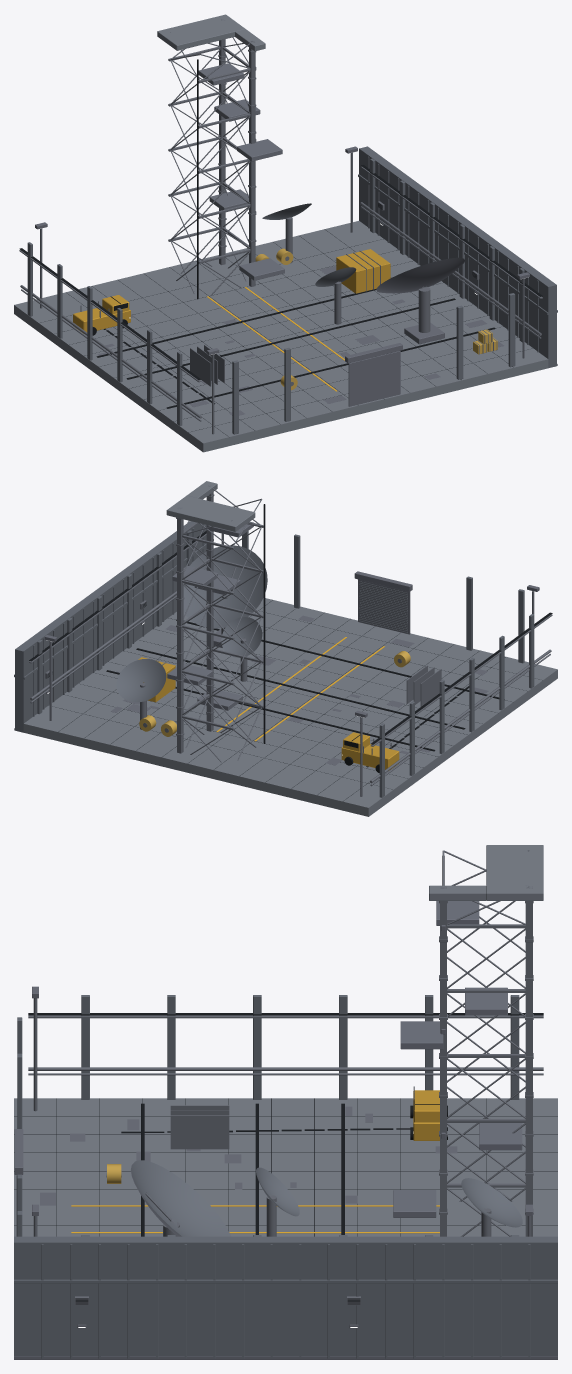
3 renders of one model, top to bottom at view 1: azimuth 30°, elevation 25°; view 2: azimuth 150°, elevation 25°; view 3: azimuth 270°, elevation 25°, orthographic. The views are drawn at different scales.
Visible parts, largest first — view 1: p0_m1; view 2: p0_m1; view 3: p0_m1.
Part boxes in pixels (box(x1,y1,x2,y2)): p0_m1: box(14, 14, 557, 452); p0_m1: box(14, 481, 557, 816); p0_m1: box(14, 845, 557, 1359).
Size of the model in its own units: 41.31 by 28.09 by 38.
